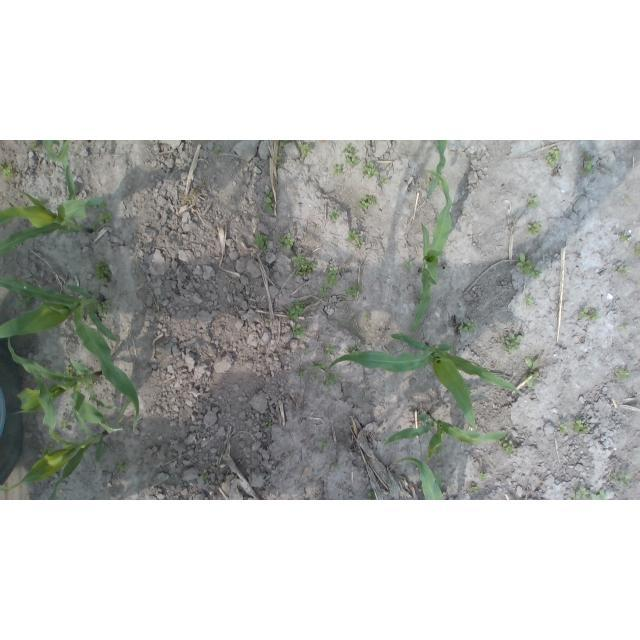Maize: (0, 275, 140, 432), (324, 333, 524, 429), (0, 369, 106, 500), (6, 336, 126, 433), (0, 157, 104, 256), (411, 168, 453, 333), (384, 412, 508, 461), (398, 456, 447, 500), (426, 140, 447, 198), (42, 140, 90, 164)
Weeds: (517, 252, 542, 279), (291, 254, 317, 277), (524, 356, 541, 388), (504, 333, 525, 354), (251, 230, 269, 252), (343, 145, 361, 167), (96, 260, 112, 284), (262, 185, 276, 211), (579, 152, 594, 176), (286, 301, 304, 320), (15, 292, 35, 309), (500, 437, 517, 456), (325, 266, 339, 289), (578, 307, 600, 321), (324, 369, 341, 387), (347, 230, 364, 248), (345, 284, 364, 300), (357, 195, 376, 211), (544, 149, 560, 166), (278, 233, 294, 250), (362, 162, 379, 178), (571, 487, 591, 500), (615, 368, 631, 383), (96, 301, 112, 316), (572, 419, 589, 433), (96, 212, 113, 226), (459, 320, 476, 333), (527, 223, 541, 237), (0, 164, 14, 178), (115, 459, 129, 473), (293, 324, 308, 337), (38, 445, 53, 458), (320, 284, 333, 297), (298, 144, 311, 157), (525, 196, 538, 208), (618, 474, 632, 485), (324, 344, 336, 356), (348, 344, 361, 355), (618, 266, 631, 277), (311, 361, 325, 371), (63, 363, 73, 377), (558, 423, 568, 434), (525, 297, 536, 307), (380, 176, 390, 187), (59, 418, 69, 429), (597, 490, 608, 500), (331, 210, 340, 221), (633, 243, 640, 257), (96, 201, 108, 209), (333, 163, 342, 173), (275, 155, 283, 166), (279, 141, 291, 148), (470, 484, 479, 493), (319, 438, 328, 447), (404, 260, 413, 268), (366, 492, 375, 500), (434, 447, 442, 455), (620, 234, 628, 242), (28, 140, 36, 148), (264, 419, 272, 427), (352, 327, 361, 334), (333, 460, 340, 469), (311, 375, 321, 381), (480, 473, 488, 480), (37, 356, 43, 365), (364, 312, 370, 320), (214, 148, 223, 153), (300, 371, 307, 377), (303, 347, 310, 353), (425, 179, 432, 185), (619, 326, 627, 331), (437, 180, 442, 188), (199, 475, 207, 480), (91, 225, 97, 231), (611, 472, 617, 478), (625, 196, 631, 201), (364, 388, 369, 393)
